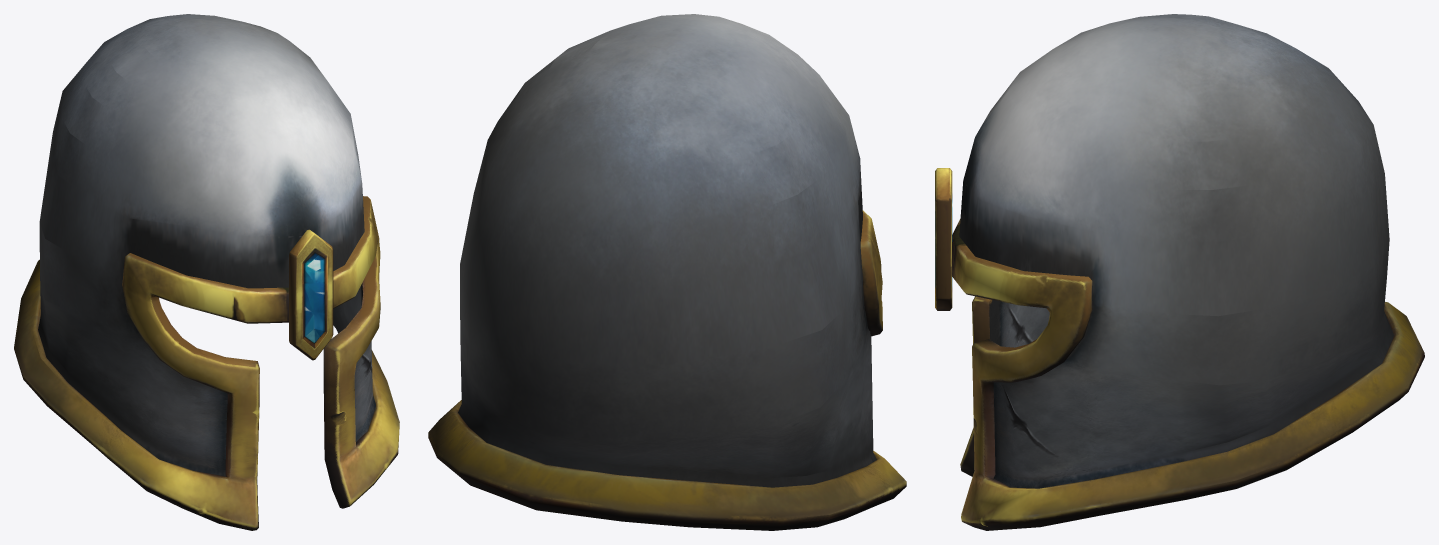
The model's file is sm_dwarf_avian_helmet.gltf.
3 views of the same model, side by side, from view 1: azimuth 30°, elevation 25°; view 2: azimuth 150°, elevation 25°; view 3: azimuth 270°, elevation 25° (orthographic). The views are drawn at different scales.
Parts seen in each view (by area): view 1: sm_dwarf_avian_helmet; view 2: sm_dwarf_avian_helmet; view 3: sm_dwarf_avian_helmet.
Boxes of the visible parts, left/top/right/bottom form: sm_dwarf_avian_helmet: left=14, top=14, right=399, bottom=530; sm_dwarf_avian_helmet: left=428, top=14, right=906, bottom=530; sm_dwarf_avian_helmet: left=935, top=14, right=1424, bottom=530.
Size of the model in its own units: 30.9 by 39.73 by 37.17.
Materials: 1 (1 with a texture image).
